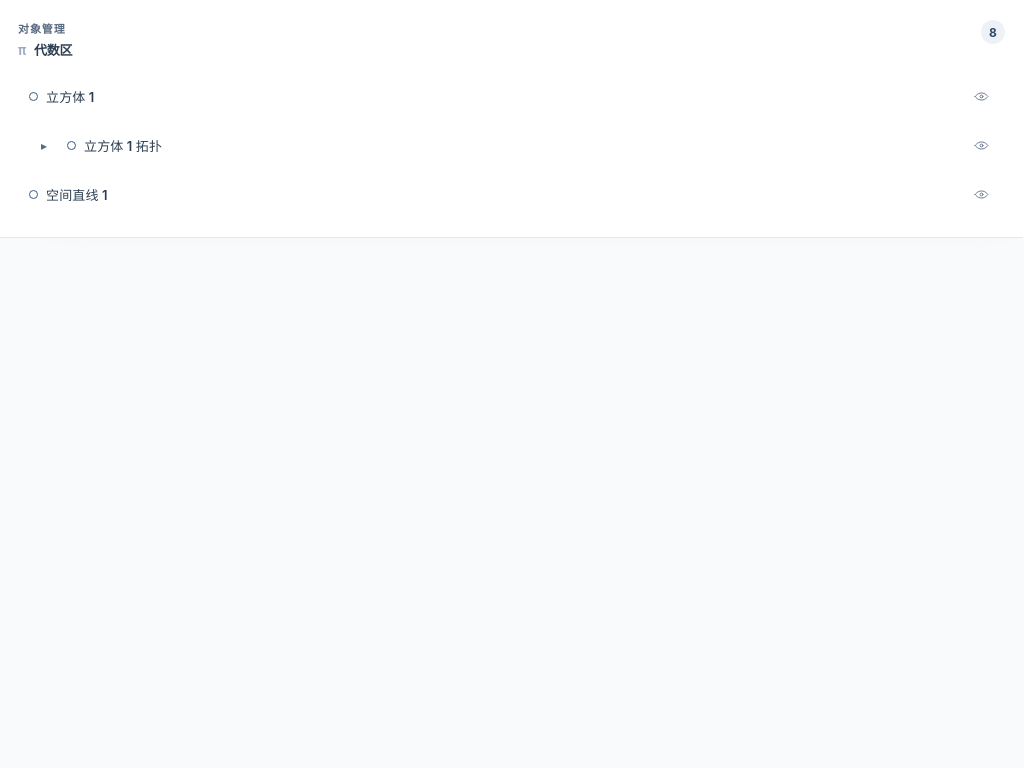
Test case: algebra view spatial tree › collapses the subtree again
Click the button named "展开 立方体 1 拓扑 的子对象" at [44, 145], box [29, 130, 59, 160]
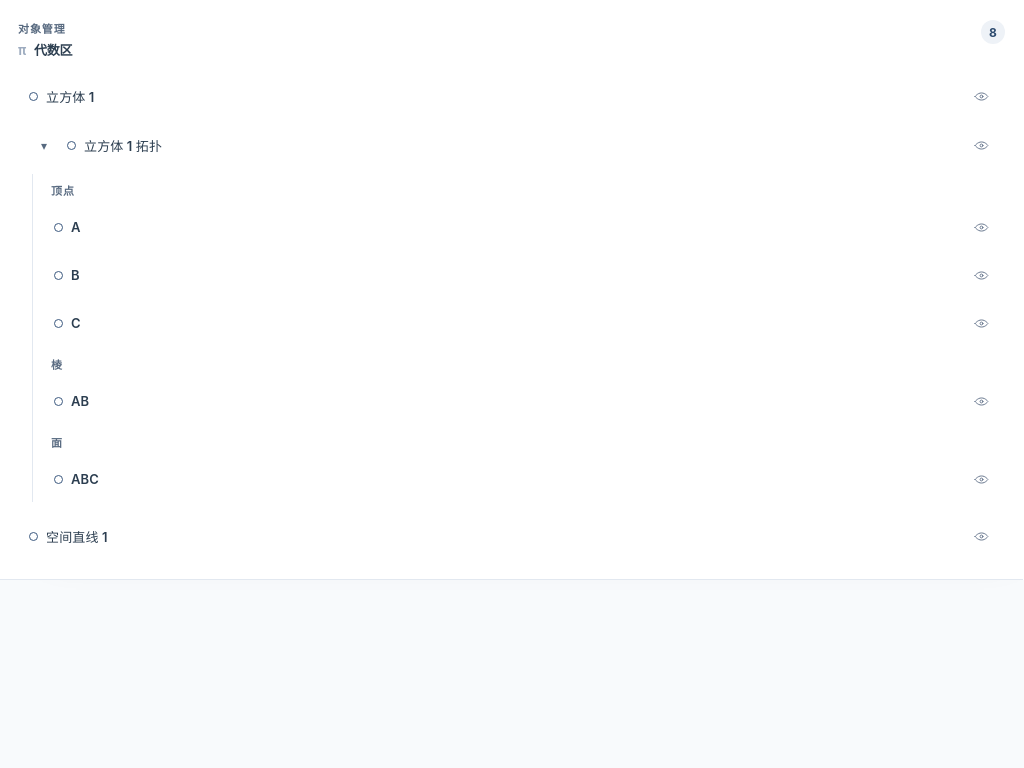
Click the button named "收起 立方体 1 拓扑 的子对象" at [44, 145], box [29, 130, 59, 160]
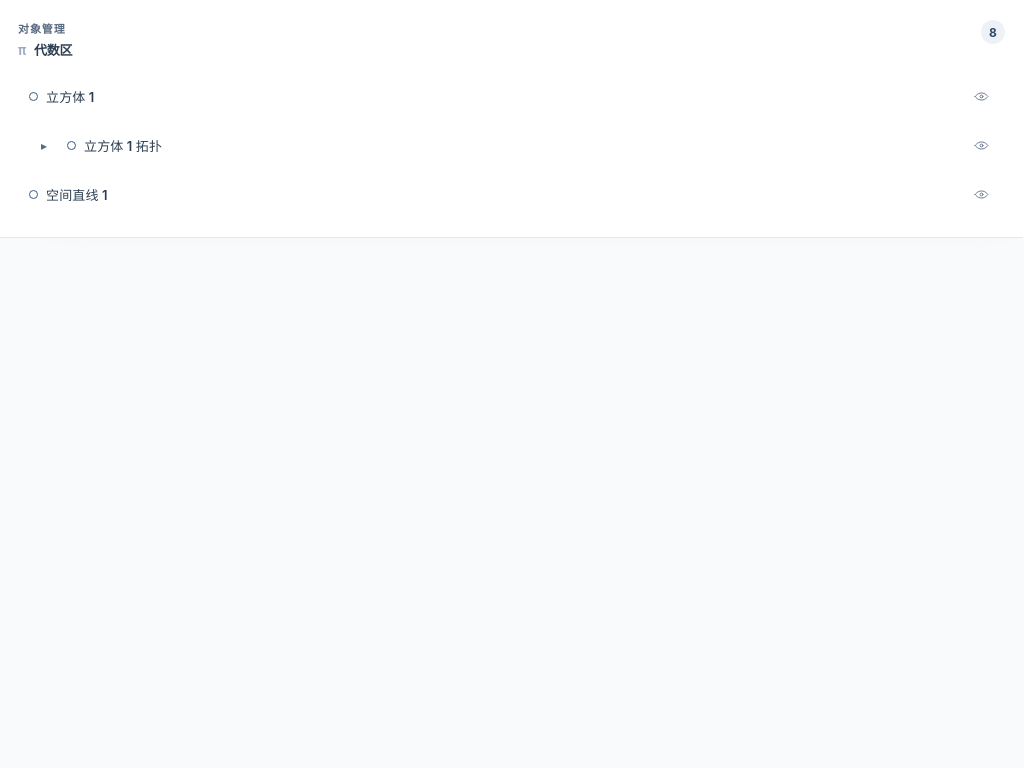
Check: the text "顶点" is gone
